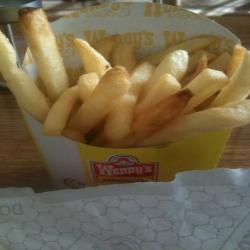fries: (6, 9, 250, 165)
